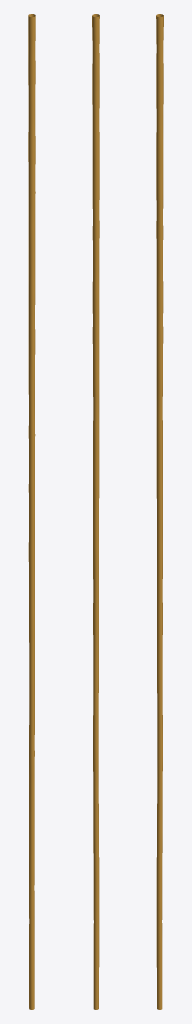
Rendered from stream.glb.
3 views of the same model, side by side, from view 1: azimuth 30°, elevation 25°; view 2: azimuth 150°, elevation 25°; view 3: azimuth 330°, elevation 25° (orthographic).
Visible parts, largest first — view 1: Stream; view 2: Stream; view 3: Stream.
Boxes of the visible parts, left/top/right/bottom form: Stream: left=28, top=14, right=35, bottom=1009; Stream: left=92, top=14, right=99, bottom=1009; Stream: left=156, top=14, right=163, bottom=1009.
Size of the model in its own units: 0.00704 by 1 by 0.00675.
